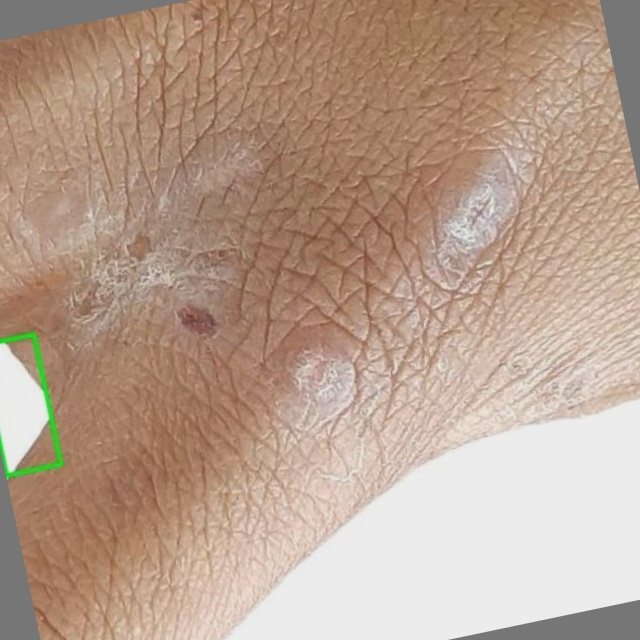Scabies: (0, 334, 61, 475)
